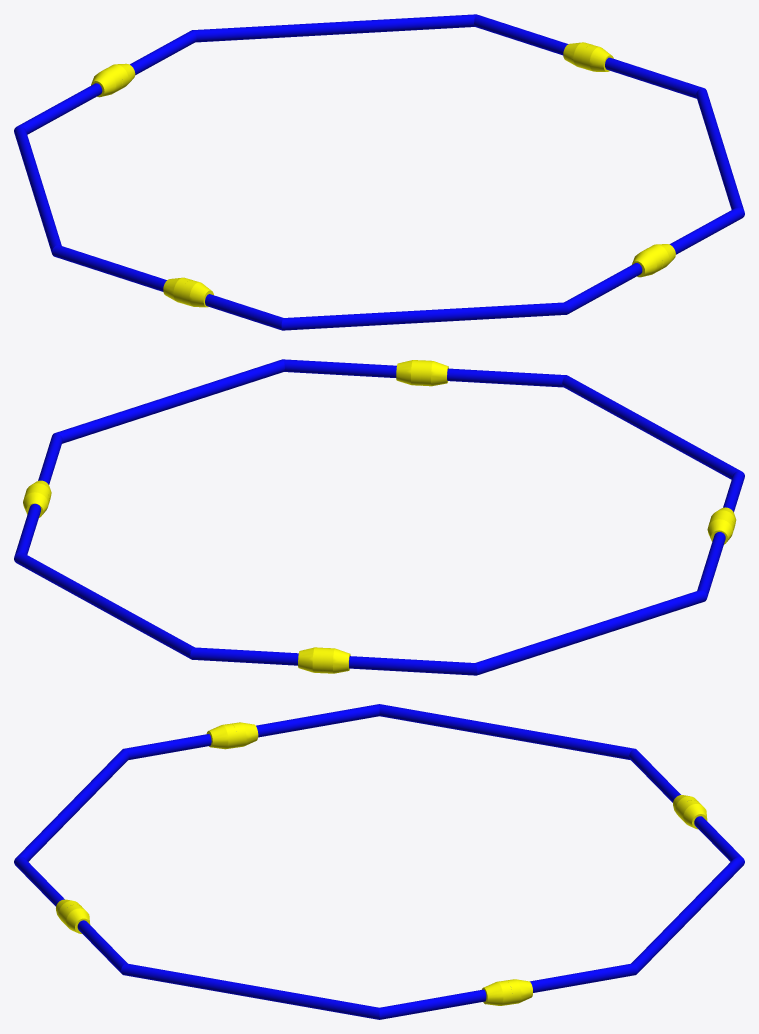
File: octagon.dae
3 renders of one model, top to bottom at view 1: azimuth 30°, elevation 25°; view 2: azimuth 150°, elevation 25°; view 3: azimuth 270°, elevation 25°, orthographic. The views are drawn at different scales.
Parts seen in each view (by area): view 1: instance_1, instance_4, instance_4_001, instance_3_002, instance_3_003; view 2: instance_1, instance_3_002, instance_3_003, instance_4_002, instance_4_003; view 3: instance_1, instance_4, instance_4_001.
Part boxes in pixels (<box>): instance_1: <box>14,14,744,330</box>; instance_4: <box>181,280,213,307</box>; instance_4_001: <box>581,45,613,71</box>; instance_3_002: <box>91,67,122,97</box>; instance_3_003: <box>632,247,662,277</box>; instance_1: <box>14,359,744,675</box>; instance_3_002: <box>322,648,350,673</box>; instance_3_003: <box>421,360,448,386</box>; instance_4_002: <box>298,647,324,673</box>; instance_4_003: <box>396,360,422,385</box>; instance_1: <box>14,704,744,1019</box>; instance_4: <box>206,723,237,749</box>; instance_4_001: <box>482,980,512,1005</box>.
Bounding box in the file's own units: 2.97 × 2.97 × 0.1078.
